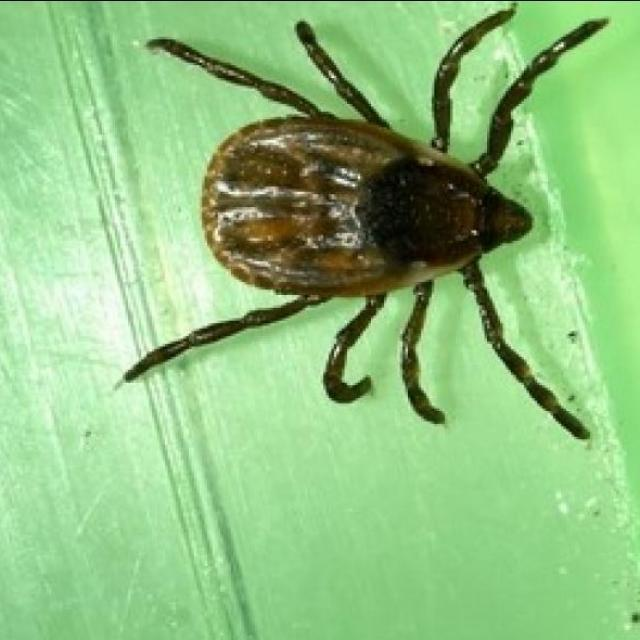Rhipicephalus Sanguineus-F: (125, 5, 606, 438)
